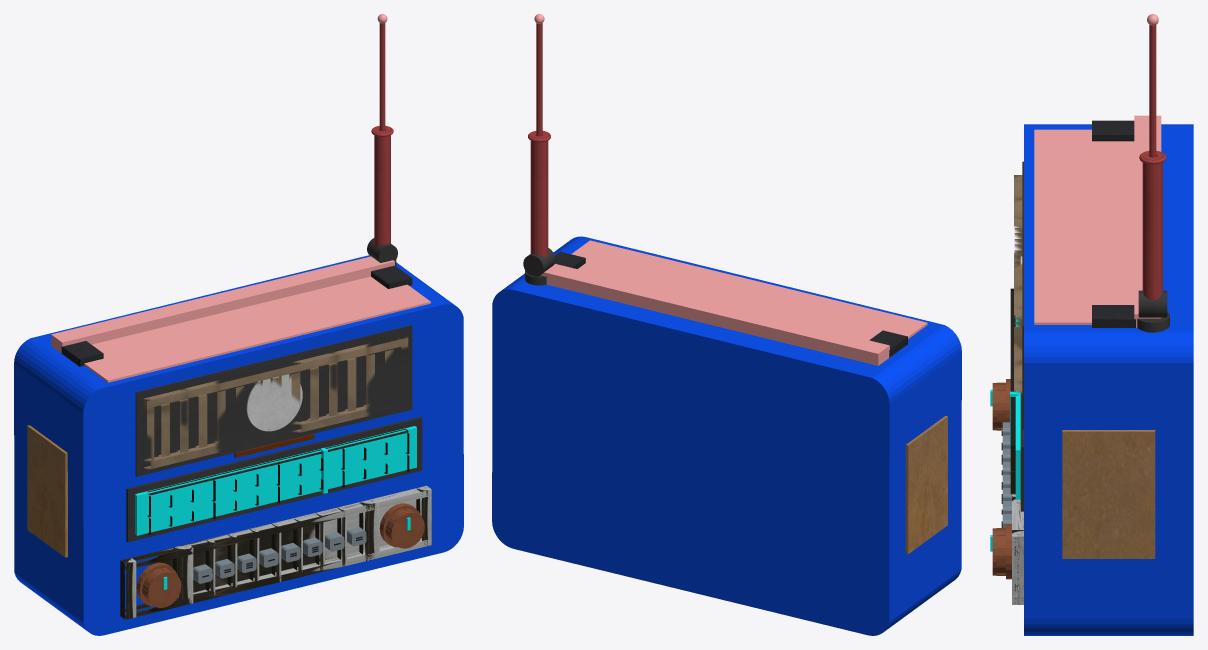
File: Technology_Audio_Device__0737.glb
3 renders of one model, left to right at view 1: azimuth 30°, elevation 25°; view 2: azimuth 150°, elevation 25°; view 3: azimuth 270°, elevation 25°, orthographic. The views are drawn at different scales.
Visible parts, largest first — view 1: cabinet::cabinet_form__portable_slab__shell, cabinet::speaker_layout__single_field__field_bezel_0, cabinet::cabinet_form__portable_slab__top_ledge, cabinet::cabinet_form__portable_slab__dial_face, cabinet::grille_style__vertical_bar__field_0, cabinet::carry_handle__molded_top_lip__rear_lip, cabinet::cabinet_form__portable_slab__dial_bezel, cabinet::cabinet_form__portable_slab__side_pad_0, control_deck::control_deck__transport_key_deck__deck_web, control_deck::control_deck__transport_key_deck__deck_rail_1, control_deck::control_deck__transport_key_deck__deck_rail_0, control_deck::control_deck__transport_key_deck__deck_separat (×3) (+8 smaller); view 2: cabinet::cabinet_form__portable_slab__shell, cabinet::cabinet_form__portable_slab__top_ledge, cabinet::carry_handle__molded_top_lip__rear_lip, cabinet::cabinet_form__portable_slab__side_pad_0, antenna_module__side_swivel_whip__base::antenna_module__side, antenna_module__side_swivel_whip__rod::antenna_module__side_; view 3: cabinet::cabinet_form__portable_slab__shell, cabinet::cabinet_form__portable_slab__top_ledge, cabinet::cabinet_form__portable_slab__side_pad_1, antenna_module__side_swivel_whip__base::antenna_module__side (×2), cabinet::carry_handle__molded_top_lip__rear_lip, cabinet::grille_style__vertical_bar__field_0, antenna_module__side_swivel_whip__rod::antenna_module__side_, cabinet::cabinet_form__portable_slab__dial_scale, control_deck__transport_key_deck__knob_01::control_deck__tra, cabinet::carry_handle__molded_top_lip__grip_pad_1, cabinet::carry_handle__molded_top_lip__grip_pad_0, control_deck__transport_key_deck__knob_00::control_deck__tra (+6 smaller).
Boxes of the visible parts, box(x1,y1,x2,y2) form: cabinet::cabinet_form__portable_slab__shell: box(14, 255, 463, 635); cabinet::speaker_layout__single_field__field_bezel_0: box(135, 325, 412, 476); cabinet::cabinet_form__portable_slab__top_ledge: box(84, 276, 430, 382); cabinet::cabinet_form__portable_slab__dial_face: box(135, 426, 416, 535); cabinet::grille_style__vertical_bar__field_0: box(143, 335, 408, 469); cabinet::carry_handle__molded_top_lip__rear_lip: box(51, 256, 394, 353); cabinet::cabinet_form__portable_slab__dial_bezel: box(126, 417, 422, 542); cabinet::cabinet_form__portable_slab__side_pad_0: box(27, 425, 67, 557); control_deck::control_deck__transport_key_deck__deck_web: box(120, 485, 426, 615); control_deck::control_deck__transport_key_deck__deck_rail_1: box(120, 486, 431, 570); control_deck::control_deck__transport_key_deck__deck_rail_0: box(120, 538, 431, 619); control_deck::control_deck__transport_key_deck__deck_separat (×3): box(120, 498, 379, 619); cabinet::cabinet_form__portable_slab__shell: box(492, 236, 961, 635); cabinet::cabinet_form__portable_slab__top_ledge: box(571, 240, 927, 340); cabinet::carry_handle__molded_top_lip__rear_lip: box(541, 264, 889, 365); cabinet::cabinet_form__portable_slab__side_pad_0: box(905, 416, 947, 554); antenna_module__side_swivel_whip__base::antenna_module__side: box(530, 131, 548, 256); antenna_module__side_swivel_whip__rod::antenna_module__side_: box(536, 23, 542, 136); cabinet::cabinet_form__portable_slab__shell: box(1024, 124, 1193, 635); cabinet::cabinet_form__portable_slab__top_ledge: box(1034, 129, 1134, 324); cabinet::cabinet_form__portable_slab__side_pad_1: box(1062, 430, 1155, 558); antenna_module__side_swivel_whip__base::antenna_module__side (×2): box(1138, 151, 1167, 317); cabinet::carry_handle__molded_top_lip__rear_lip: box(1134, 115, 1161, 327); cabinet::grille_style__vertical_bar__field_0: box(1014, 175, 1022, 394); antenna_module__side_swivel_whip__rod::antenna_module__side_: box(1149, 25, 1156, 157); cabinet::cabinet_form__portable_slab__dial_scale: box(1010, 288, 1015, 494); control_deck__transport_key_deck__knob_01::control_deck__tra: box(992, 524, 1011, 579); cabinet::carry_handle__molded_top_lip__grip_pad_1: box(1092, 305, 1135, 327); cabinet::carry_handle__molded_top_lip__grip_pad_0: box(1092, 120, 1134, 141); control_deck__transport_key_deck__knob_00::control_deck__tra: box(992, 379, 1010, 430).
Bounding box in the file's own units: 0.3214 × 0.3996 × 0.1199.
29 materials, 10 textured.
